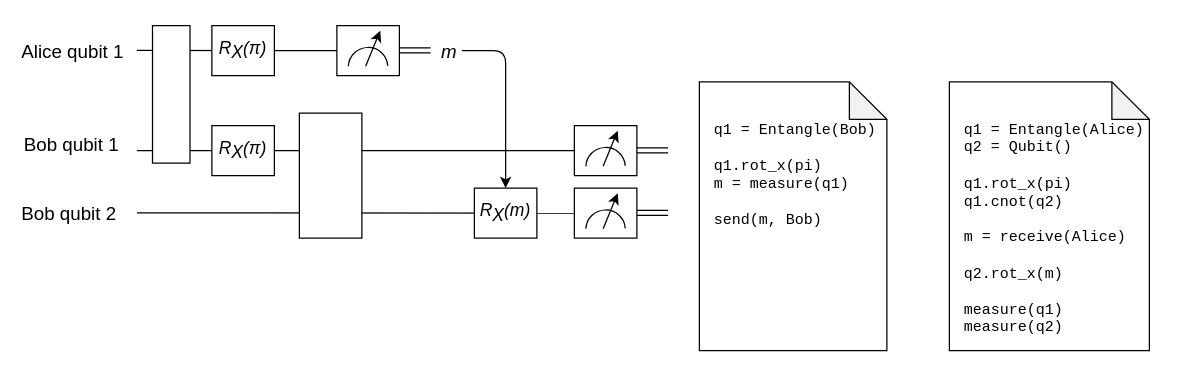
This 1184x373 diagram has some shape labels left out. Each missing label, with the centre of its shape:
"CNOT" goes at [330,175].
"Entangle (Φ + )" goes at [170,93].
